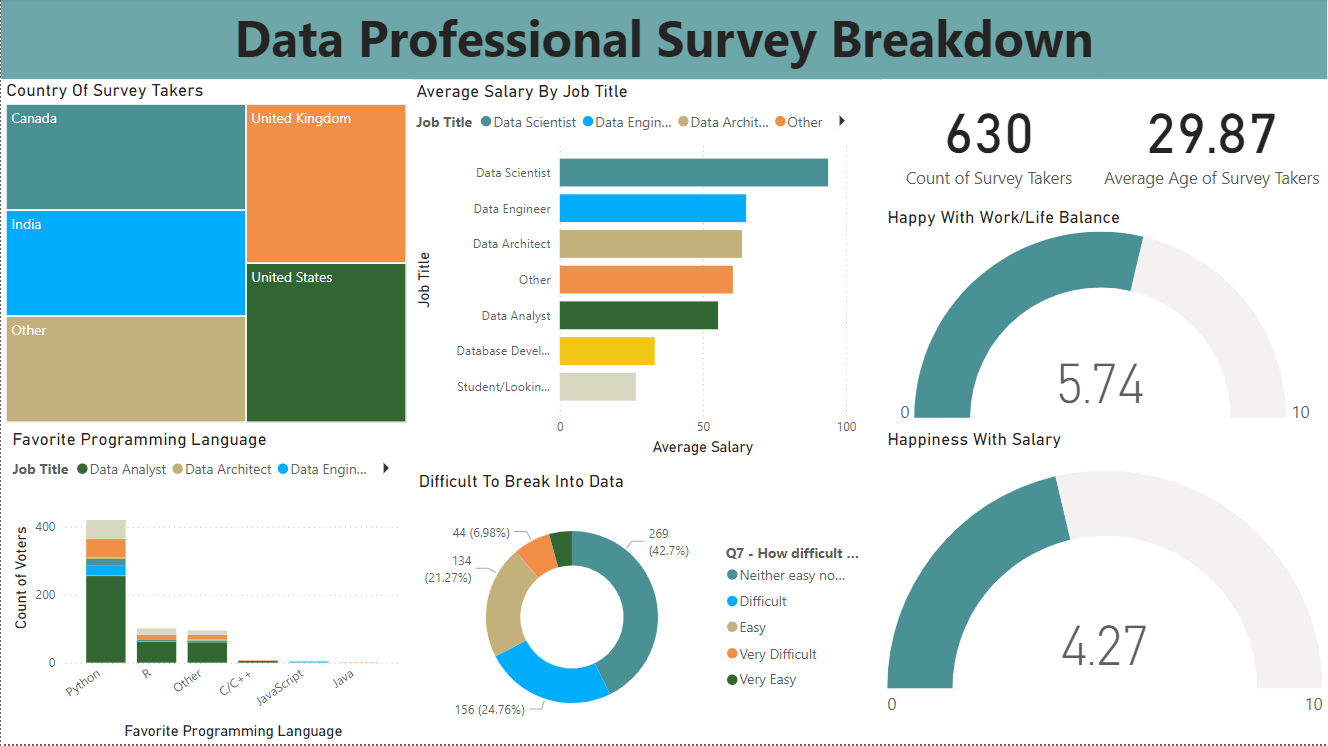

What the dashboard file says about the page in this screenshot:
{"tool":"powerbi","page":{"name":"Page 1","canvas":[1280,720],"ordinal":0},"visuals":[{"type":"textbox","box":[0,0,1280,78.4],"z":0},{"type":"card","fields":{"Values":["Count(Data Professional Survey.Unique ID)"]},"box":[850,78.8,206.2,112.5],"z":1000},{"type":"card","fields":{"Values":["Avg(Data Professional Survey.Q10 - Current Age)"]},"box":[1056.2,78.8,223.8,112.5],"z":2000},{"type":"barChart","title":"Average Salary By Job Title","fields":{"Category":["Data Professional Survey.Q1 - Which Title Best Fits your Current Role?.1"],"Y":["Avg(Data Professional Survey.Average Salary)"],"Series":["Data Professional Survey.Q1 - Which Title Best Fits your Current Role?.1"]},"box":[396.2,80,435,366.2],"z":3000},{"type":"columnChart","title":"Favorite Programming Language","fields":{"Category":["Data Professional Survey.Q5 - Favorite Programming Language.1"],"Y":["CountNonNull(Data Professional Survey.Unique ID)"],"Series":["Data Professional Survey.Q1 - Which Title Best Fits your Current Role?.1"]},"box":[0,415,385,305],"z":4000},{"type":"treemap","title":"Country Of Survey Takers","fields":{"Group":["Data Professional Survey.Q11 - Which Country do you live in?.1"],"Values":["Count(Data Professional Survey.Q11 - Which Country do you live in?.1)"]},"box":[0,78.8,396.2,336.2],"z":5000},{"type":"gauge","title":"Happy With Work/Life Balance","fields":{"Y":["Avg(Data Professional Survey.Q6 - How Happy are you in your Current Position with the following? (Work/Life Balance))"],"MinValue":["Min(Data Professional Survey.Q6 - How Happy are you in your Current Position with the following? (Work/Life Balance))1"],"MaxValue":["Max(Data Professional Survey.Q6 - How Happy are you in your Current Position with the following? (Work/Life Balance))2"]},"box":[850,201.2,430,213.8],"z":6000},{"type":"gauge","title":"Happiness With Salary","fields":{"Y":["Avg(Data Professional Survey.Q6 - How Happy are you in your Current Position with the following? (Salary))"],"MinValue":["Min(Data Professional Survey.Q6 - How Happy are you in your Current Position with the following? (Salary))"],"MaxValue":["Max(Data Professional Survey.Q6 - How Happy are you in your Current Position with the following? (Salary))"]},"box":[850,415,430,305],"z":7000},{"type":"donutChart","title":"Difficult To Break Into Data","fields":{"Category":["Data Professional Survey.Q7 - How difficult was it for you to break into Data?"],"Y":["CountNonNull(Data Professional Survey.Q7 - How difficult was it for you to break into Data?)"]},"box":[398.2,455.9,434.3,264],"z":8000}]}

Visuals, with their boxes in screenshot pixels (x1, y1, x2, y2), scaled from the page's 1280x720 canvas onto the 1328x746 screenshot:
textbox: (0, 0, 1327, 81)
card - Count(Data Professional Survey.Unique ID): (882, 82, 1096, 198)
card - Avg(Data Professional Survey.Q10 - Current Age): (1096, 82, 1327, 198)
"Average Salary By Job Title" barChart: (411, 83, 862, 462)
"Favorite Programming Language" columnChart: (0, 430, 399, 745)
"Country Of Survey Takers" treemap: (0, 82, 411, 430)
"Happy With Work/Life Balance" gauge: (882, 208, 1327, 430)
"Happiness With Salary" gauge: (882, 430, 1327, 745)
"Difficult To Break Into Data" donutChart: (413, 472, 864, 745)
